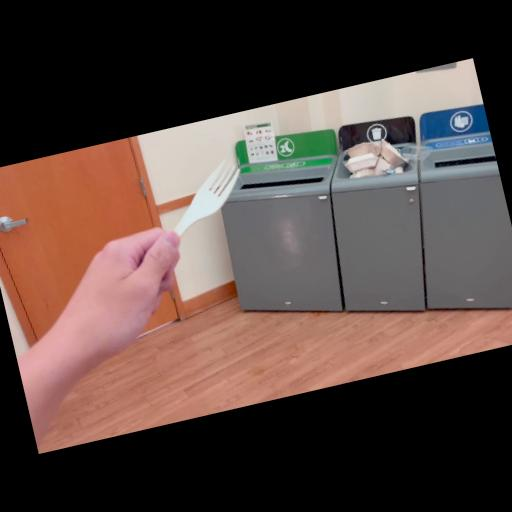utensil: (102, 151, 274, 317)
